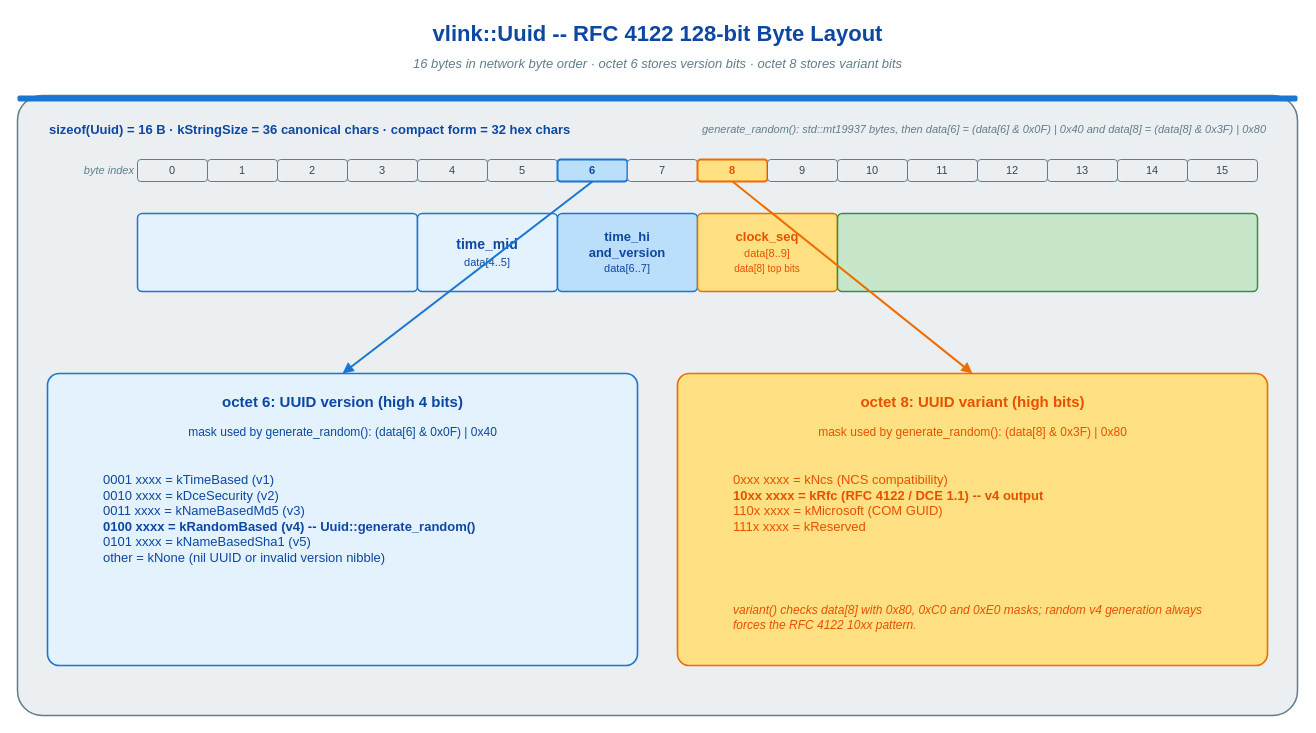
Image size: 1316x733. Some labels were removed from this diagram. Each missing label, with the centre of its shape:
node data[10..15] spatially unique identifier: the point at 1047,252
time_low data[0..3]: the point at 277,252
